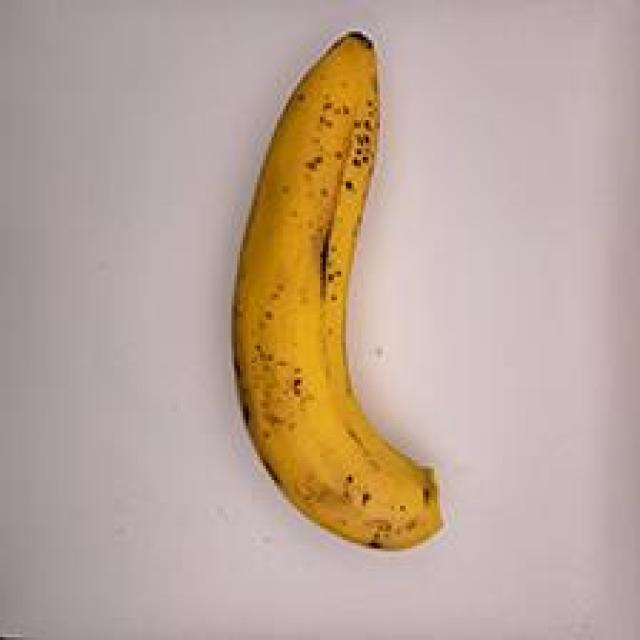Overripe: (209, 11, 481, 564)
